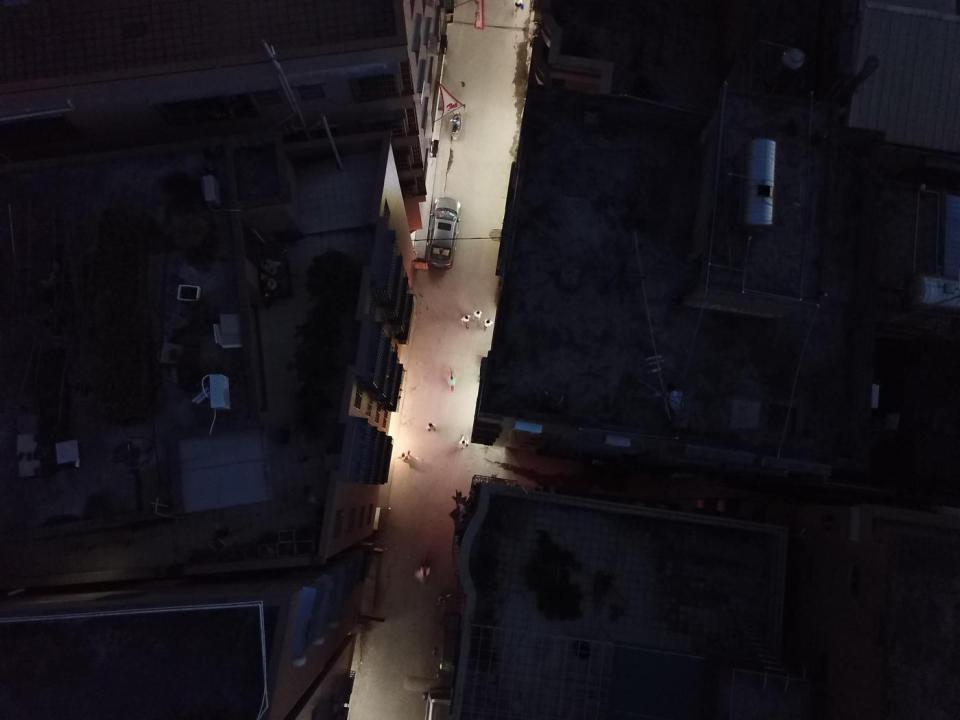car: (425, 197, 461, 269), (423, 686, 453, 720)
